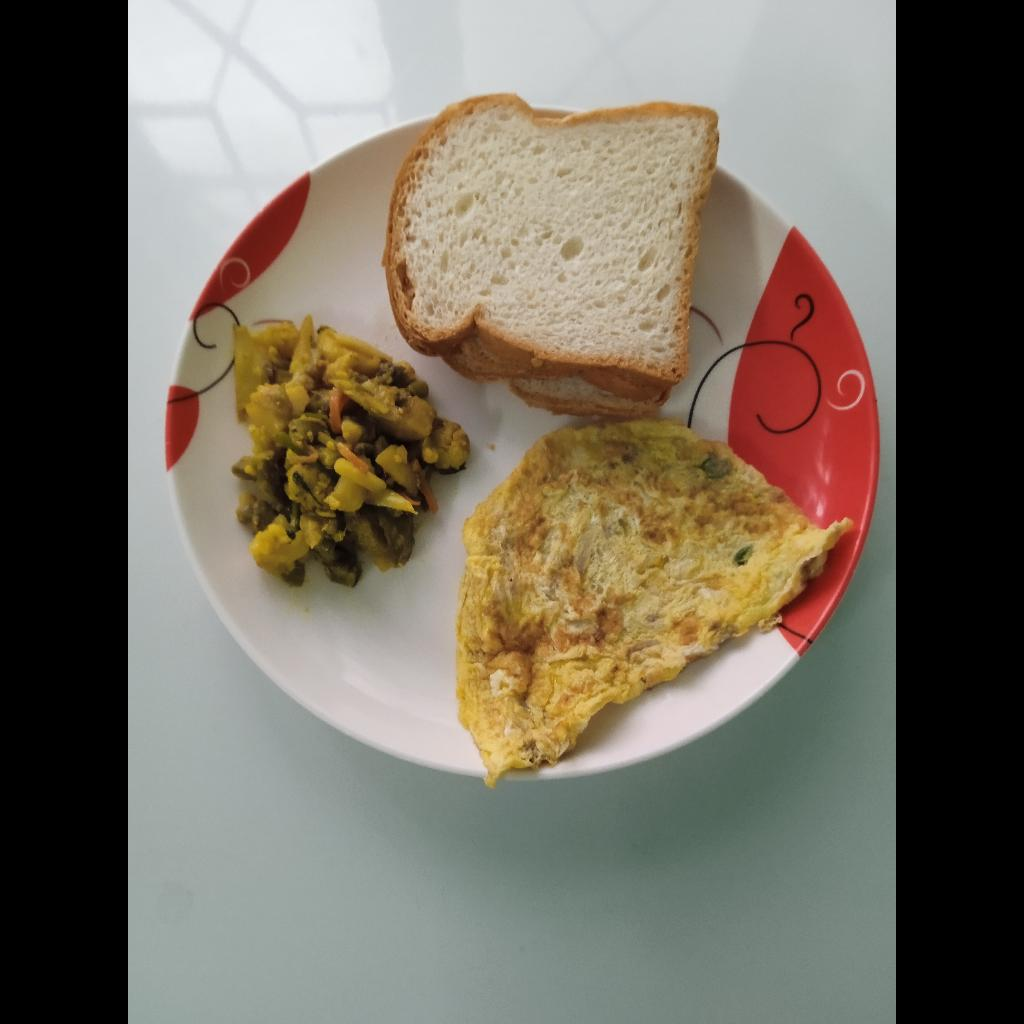bread: (387, 95, 716, 417)
egg-poached: (456, 427, 846, 784)
vegetable: (230, 316, 467, 580)
